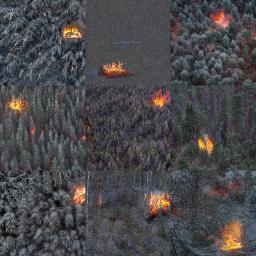Small fire: (142, 191, 179, 217), (214, 227, 246, 254), (97, 60, 130, 80), (69, 183, 90, 212), (210, 7, 233, 30), (59, 23, 83, 43), (152, 86, 171, 110), (197, 136, 214, 159), (8, 95, 27, 115)
